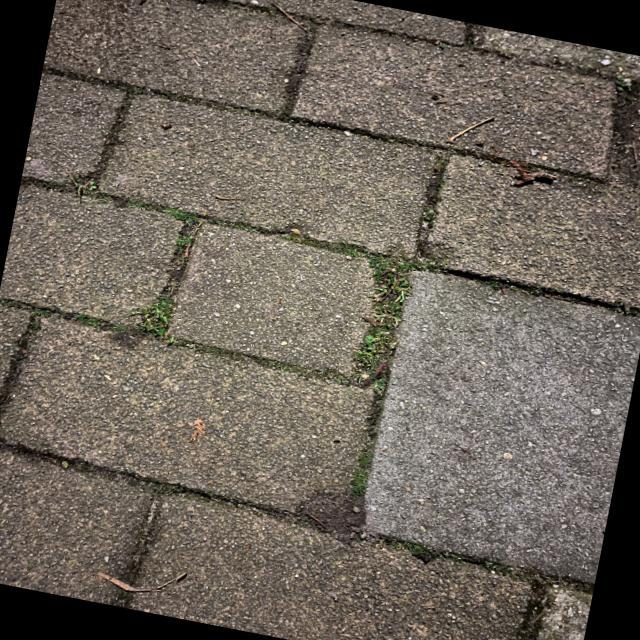pavement: (0, 0, 640, 640)
weed: (7, 199, 562, 639)
